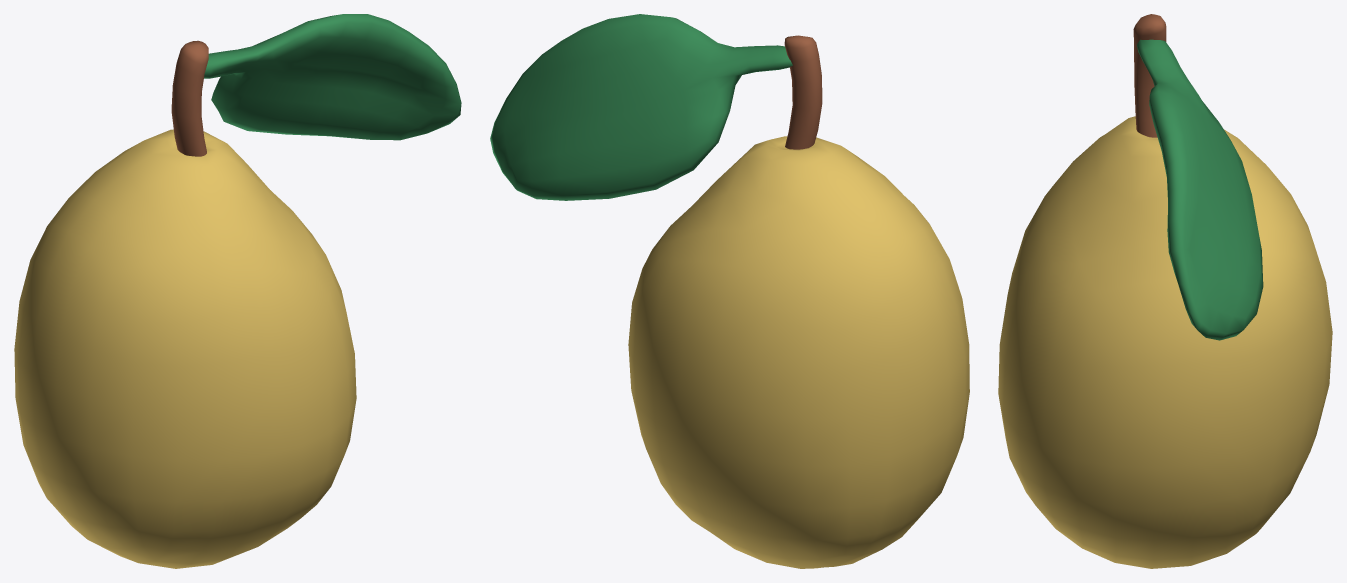
File: Pear_02.dae
The picture shows the model from 3 angles, left to right: view 1: azimuth 30°, elevation 25°; view 2: azimuth 150°, elevation 25°; view 3: azimuth 270°, elevation 25°; orthographic projection. The views are drawn at different scales.
Parts seen in each view (by area): view 1: Pear_02_LOD0; view 2: Pear_02_LOD0; view 3: Pear_02_LOD0.
Part boxes in pixels (<box>): Pear_02_LOD0: <box>14,14,461,568</box>; Pear_02_LOD0: <box>490,14,969,568</box>; Pear_02_LOD0: <box>998,14,1332,568</box>.
Size of what is drawn, in the model's own units: 5.01 by 3.1 by 5.51.
